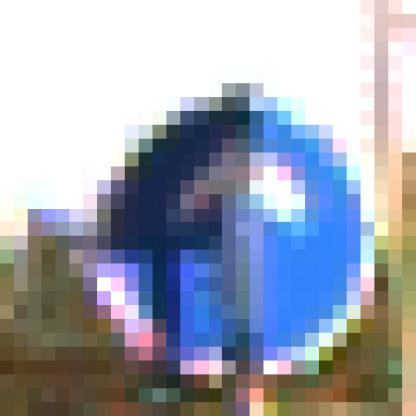AheadOnly: (84, 84, 334, 348)
